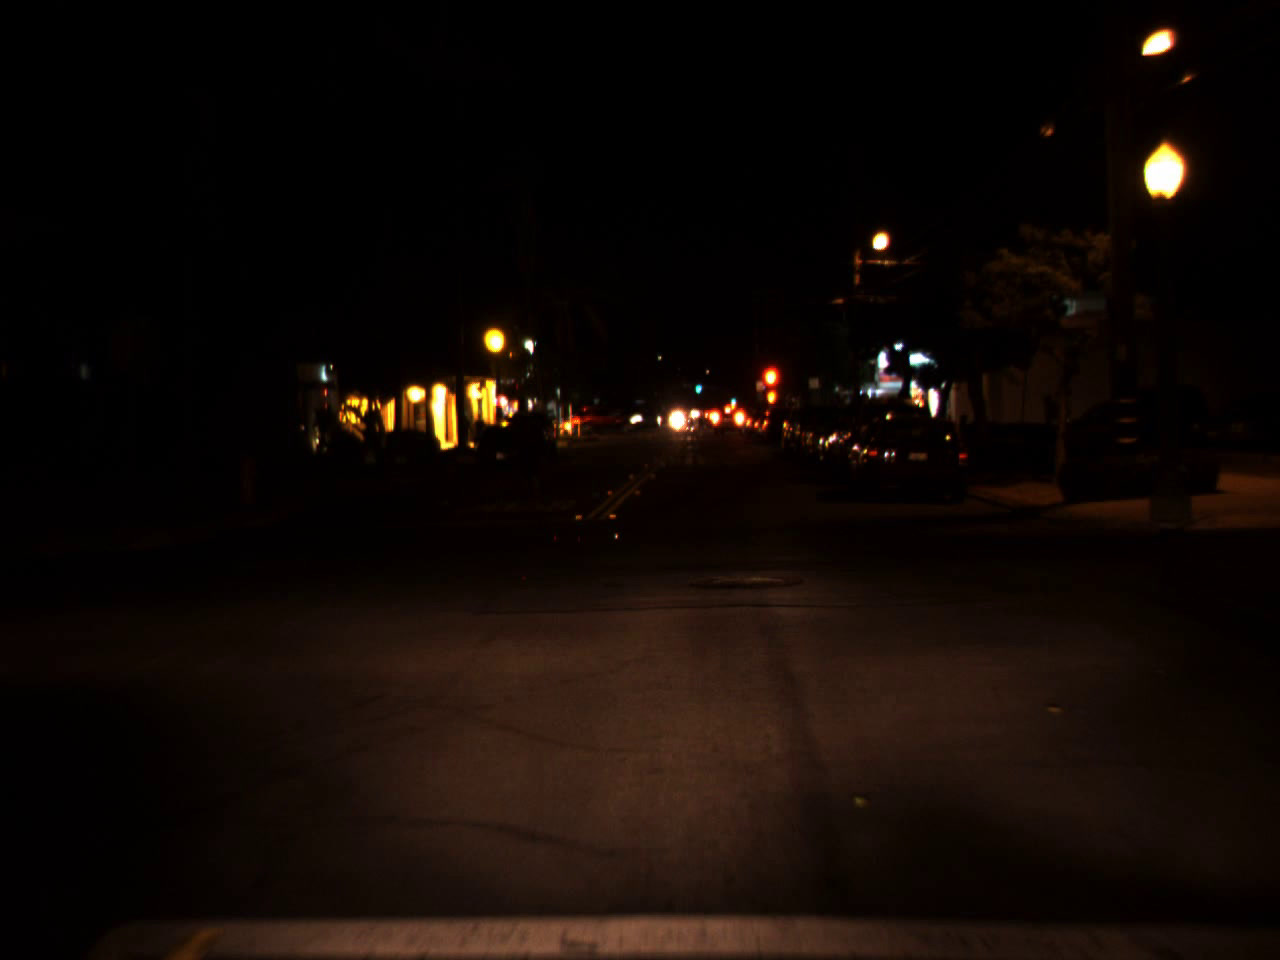go: (693, 375, 702, 396), (728, 392, 737, 404)
stop: (759, 363, 783, 411)
